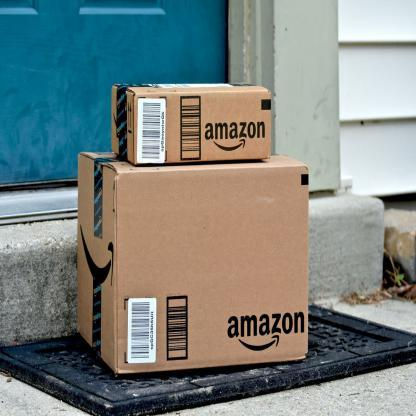package: (75, 149, 315, 376), (108, 78, 278, 169)
